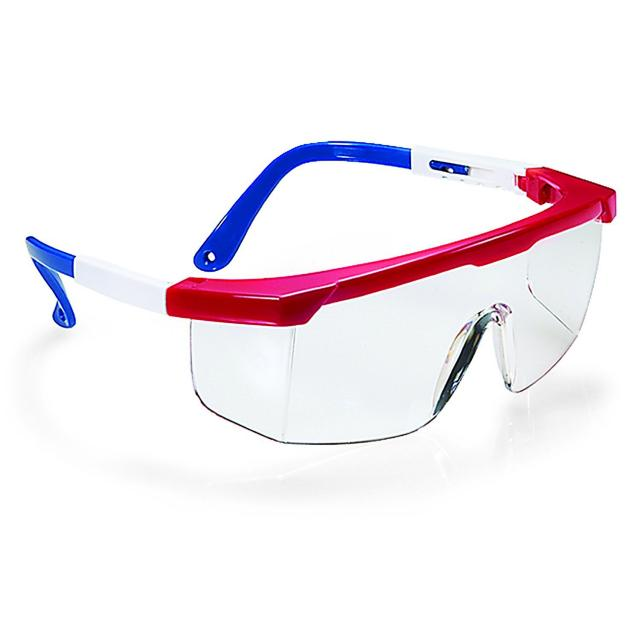Protective Glasses: (3, 71, 626, 515)
